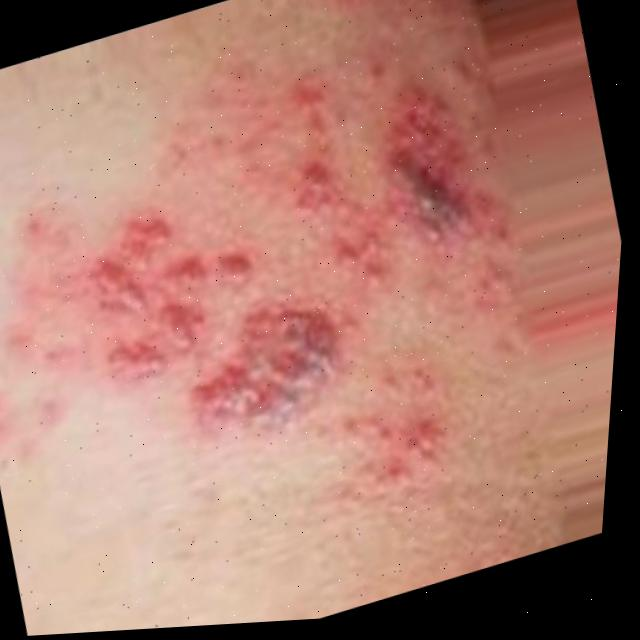Shingles: (2, 12, 545, 565)
